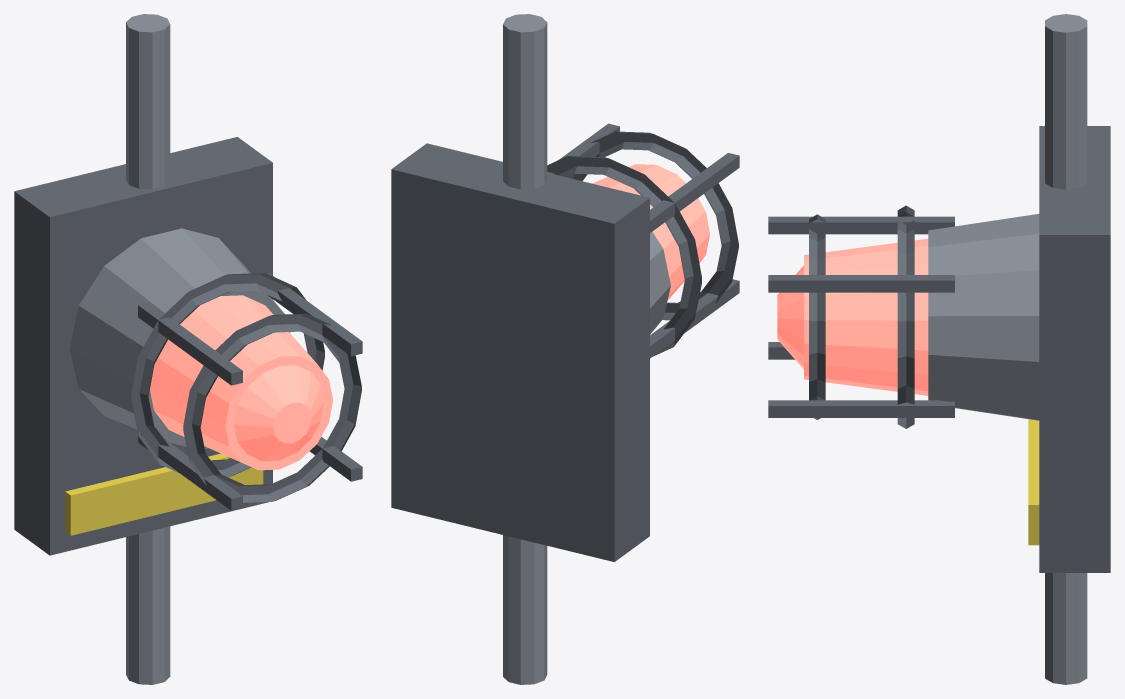
File: wall_emergency_beacon.glb
3 renders of one model, left to right at view 1: azimuth 30°, elevation 25°; view 2: azimuth 150°, elevation 25°; view 3: azimuth 270°, elevation 25°, orthographic.
Visible parts, largest first — view 1: WallEmergencyBeacon; view 2: WallEmergencyBeacon; view 3: WallEmergencyBeacon.
Part boxes in pixels (left/top/right/bottom): WallEmergencyBeacon: left=14, top=14, right=362, bottom=684; WallEmergencyBeacon: left=391, top=14, right=739, bottom=684; WallEmergencyBeacon: left=768, top=14, right=1110, bottom=684.
Bounding box in the file's own units: 0.58 × 1.62 × 0.77.
